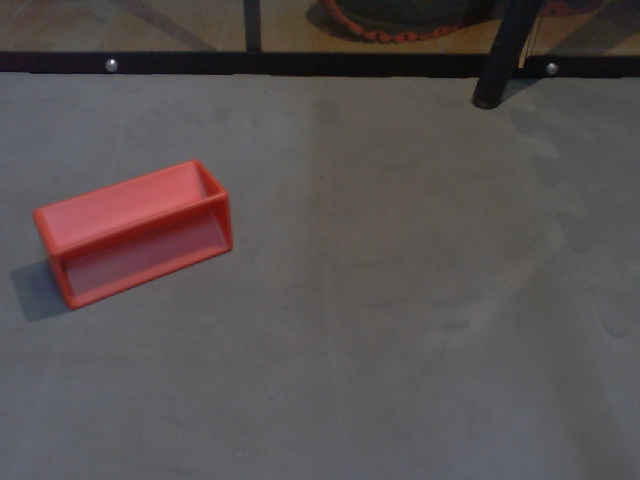RedSample: (29, 157, 233, 313)
